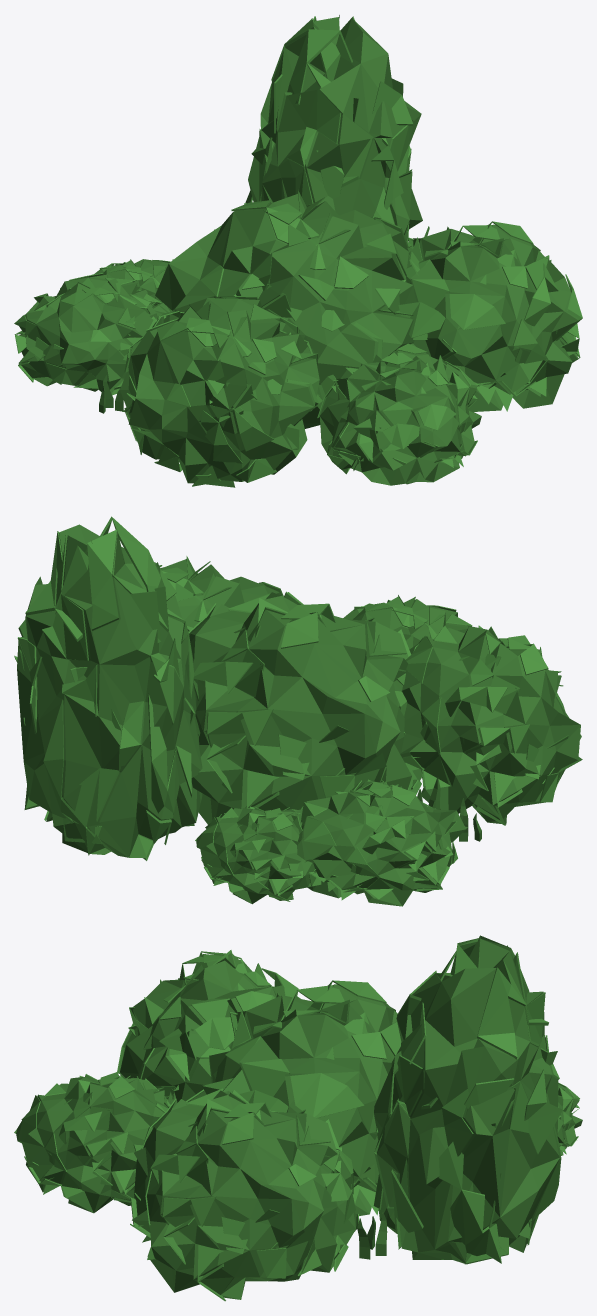
The model's file is Bush group 1.fbx.
The picture shows the model from 3 angles, top to bottom: view 1: azimuth 30°, elevation 25°; view 2: azimuth 150°, elevation 25°; view 3: azimuth 270°, elevation 25°; orthographic projection. The views are drawn at different scales.
Parts seen in each view (by area): view 1: Bush group 1; view 2: Bush group 1; view 3: Bush group 1.
Boxes of the visible parts, left/top/right/bottom form: Bush group 1: left=14, top=15, right=582, bottom=487; Bush group 1: left=14, top=516, right=582, bottom=906; Bush group 1: left=14, top=935, right=582, bottom=1301.
Size of the model in its own units: 9.46 by 5.93 by 9.8.
